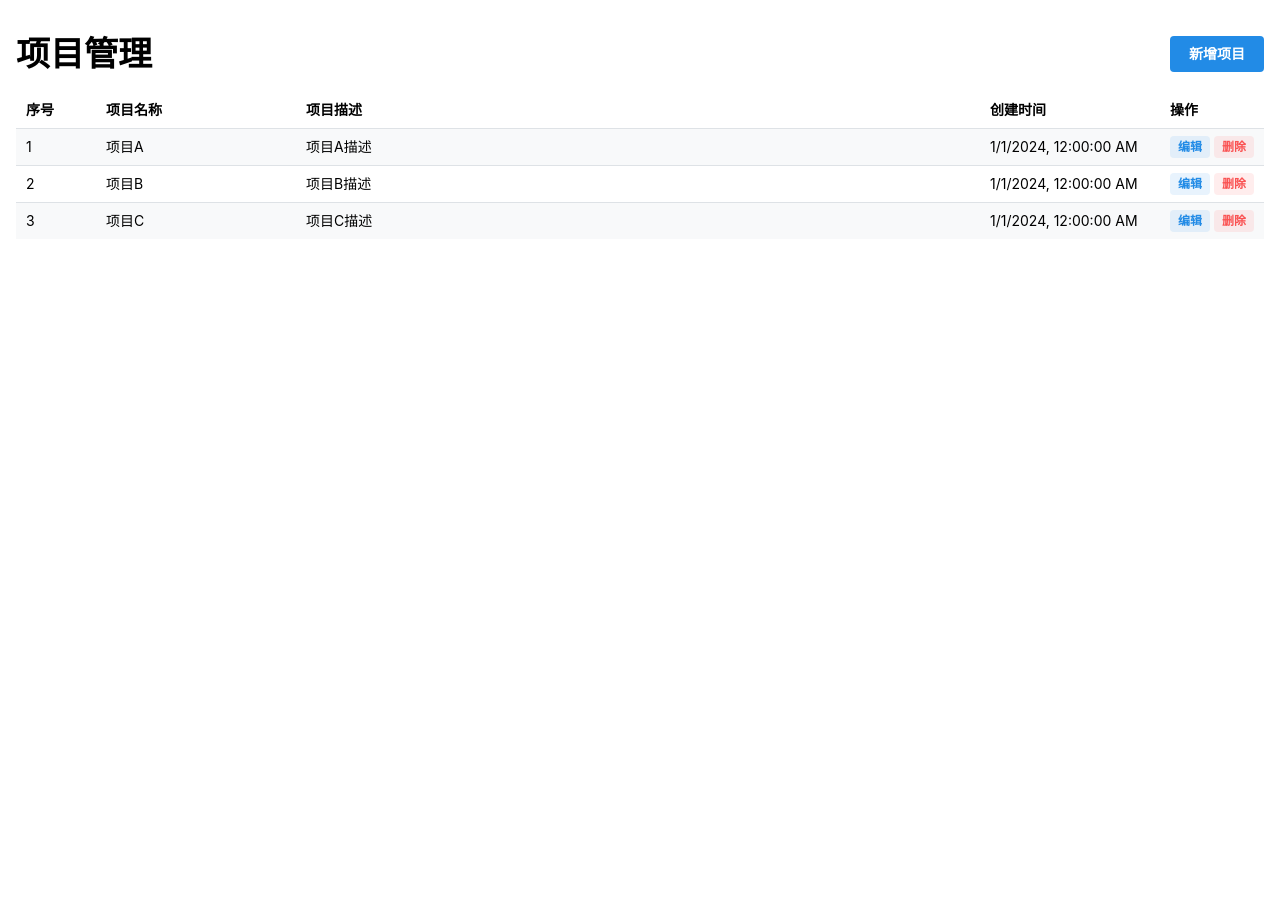
Test: ProjectManagementPage 页面 › 创建项目 › 点击"新增项目"打开创建弹窗
Step 1. Click the button "新增项目" → [1217, 54], box [1170,36,1264,72]
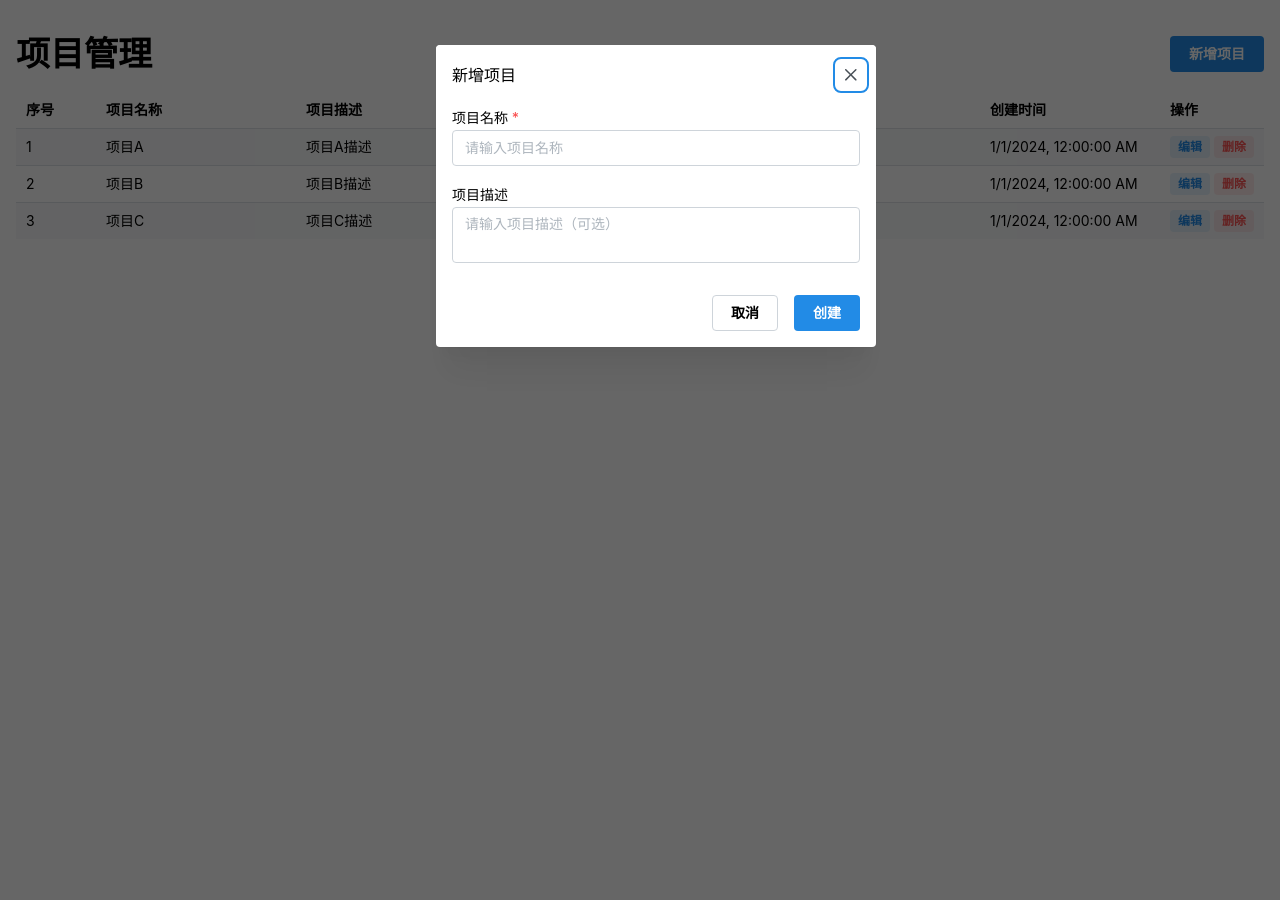
Now the dialog is shown, box [436,45,876,347]
Now the field with placeholder "请输入项目名称" is shown, box [452,130,860,166]
Now the text box with placeholder "请输入项目描述（可选）" is shown, box [452,207,860,263]
